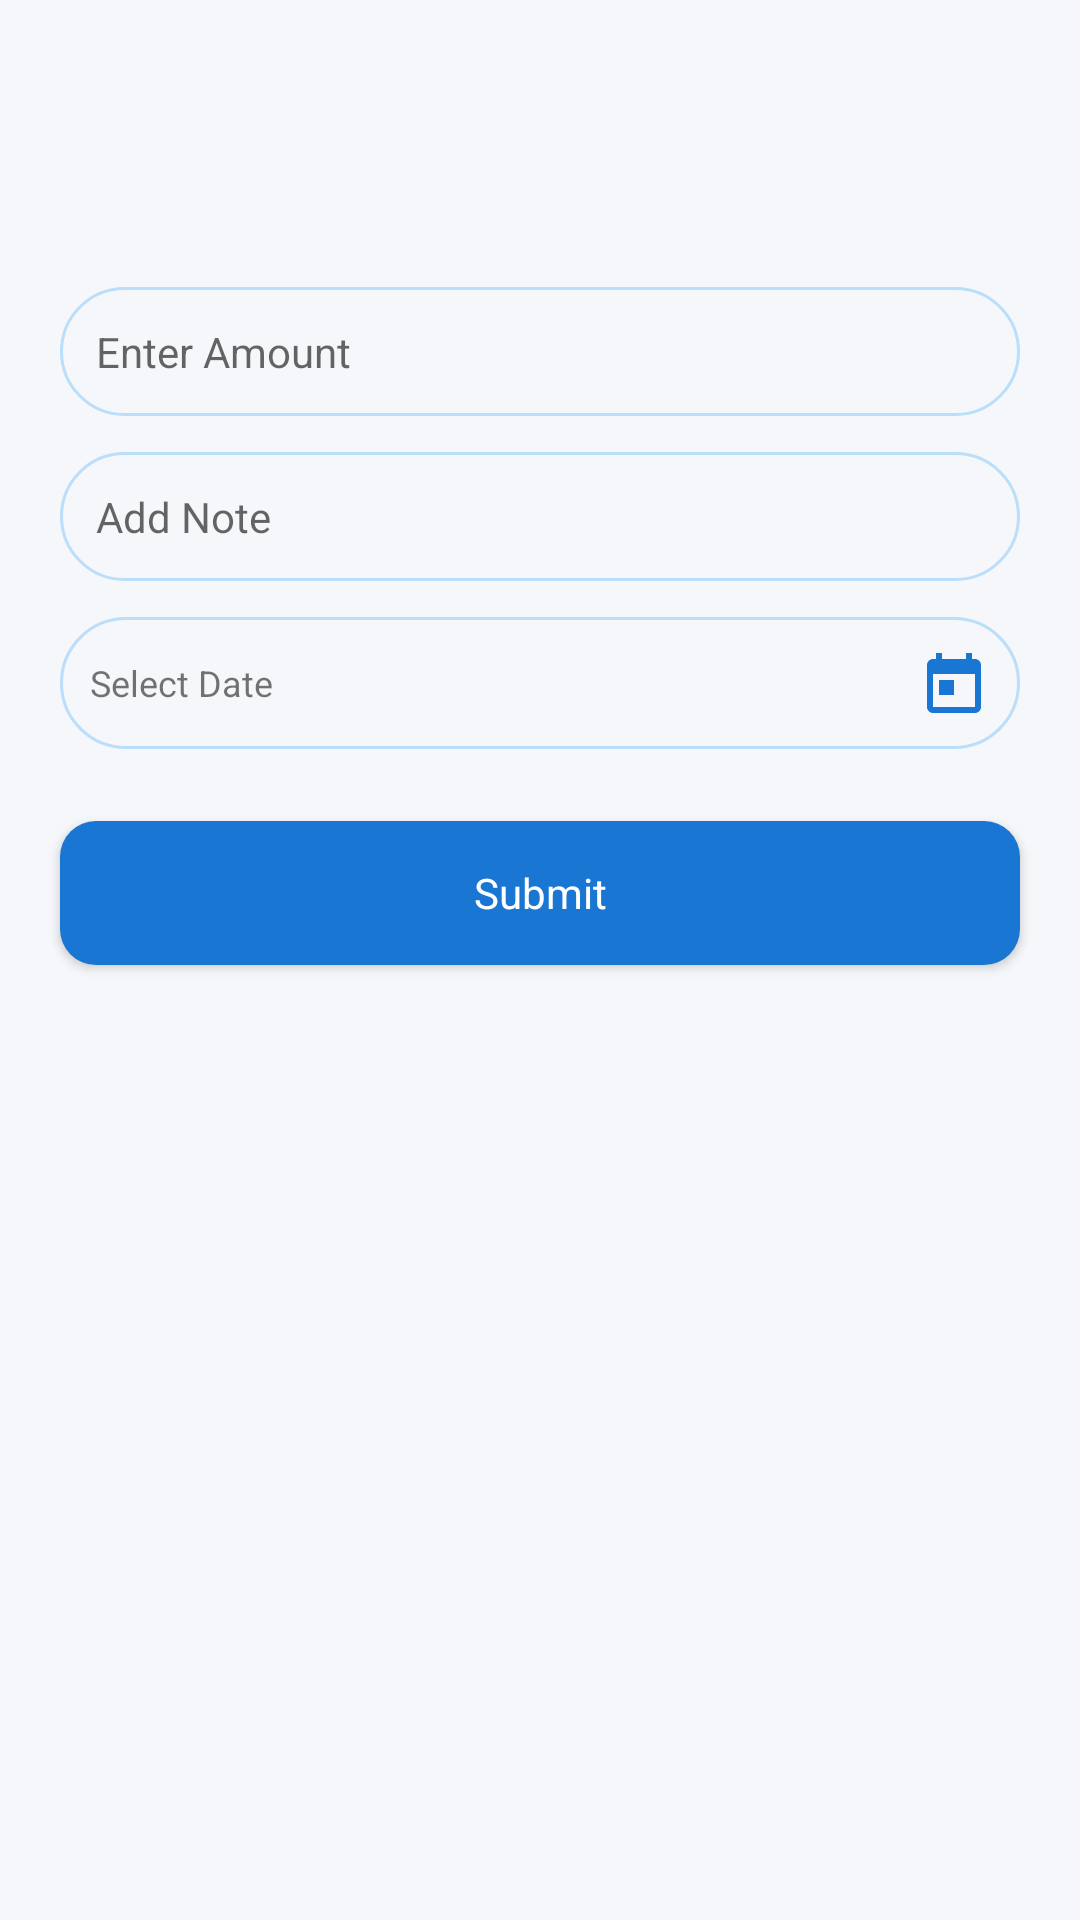

Where icons sit on this 1080px x 1920px app screen, as (x1, y1, x2, y2):
calendar: (927, 653, 981, 713)
